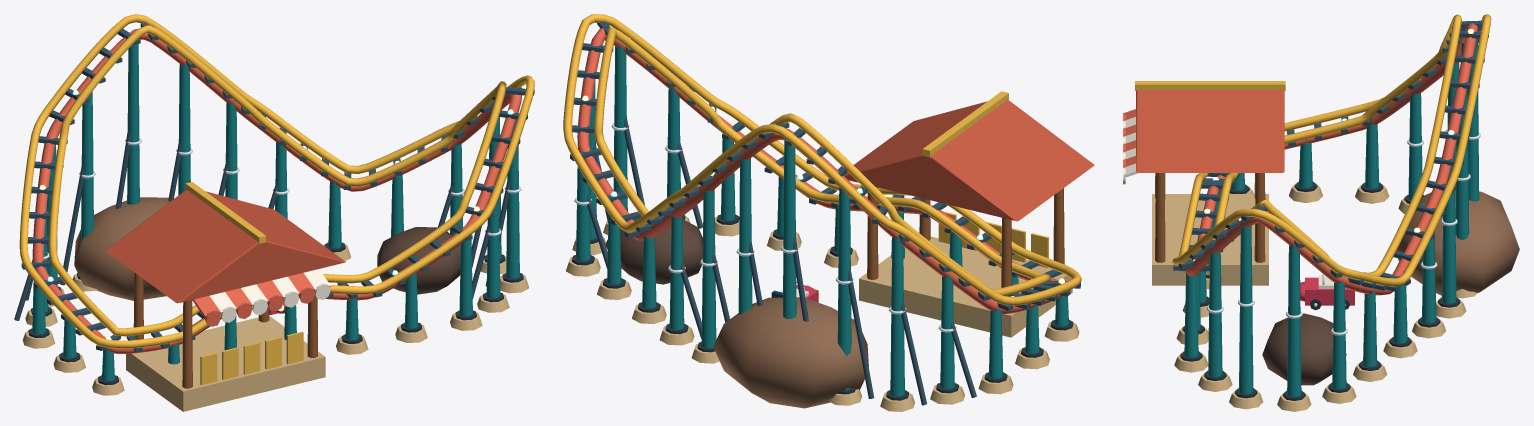
The model's file is roller-coaster.glb.
The picture shows the model from 3 angles, left to right: view 1: azimuth 30°, elevation 25°; view 2: azimuth 150°, elevation 25°; view 3: azimuth 270°, elevation 25°; orthographic projection. The views are drawn at different scales.
Visible parts, largest first — view 1: Mesh_mango, Mesh_teal, Mesh_terracotta, Mesh_sandStone, Mesh_coral, Mesh_steel, Mesh_cliffRock, Mesh_gold, Mesh_cliffDark, Mesh_wood, Mesh_warmWhite, Mesh_iron (+1 smaller); view 2: Mesh_teal, Mesh_mango, Mesh_terracotta, Mesh_sandStone, Mesh_cliffRock, Mesh_steel, Mesh_coral, Mesh_cliffDark, Mesh_wood, Mesh_gold, Mesh_iron, Mesh_chrome; view 3: Mesh_teal, Mesh_terracotta, Mesh_mango, Mesh_sandStone, Mesh_coral, Mesh_cliffRock, Mesh_steel, Mesh_cliffDark, Mesh_iron, Mesh_wood, Mesh_gold, Mesh_crimson (+2 smaller).
Boxes of the visible parts, left/top/right/bottom form: Mesh_mango: left=19, top=14, right=534, bottom=348; Mesh_teal: left=32, top=44, right=519, bottom=381; Mesh_terracotta: left=105, top=189, right=345, bottom=303; Mesh_sandStone: left=22, top=244, right=529, bottom=411; Mesh_coral: left=32, top=29, right=521, bottom=353; Mesh_steel: left=14, top=23, right=534, bottom=352; Mesh_cliffRock: left=74, top=197, right=169, bottom=300; Mesh_gold: left=185, top=182, right=303, bottom=385; Mesh_cliffDark: left=377, top=227, right=460, bottom=294; Mesh_wood: left=133, top=272, right=317, bottom=388; Mesh_warmWhite: left=209, top=269, right=330, bottom=322; Mesh_iron: left=28, top=242, right=523, bottom=385; Mesh_teal: left=576, top=43, right=1068, bottom=396; Mesh_mango: left=563, top=14, right=1081, bottom=305; Mesh_terracotta: left=844, top=99, right=1094, bottom=221; Mesh_sandStone: left=566, top=216, right=1079, bottom=411; Mesh_cliffRock: left=713, top=297, right=868, bottom=408; Mesh_steel: left=570, top=22, right=1080, bottom=405; Mesh_coral: left=577, top=28, right=1062, bottom=314; Mesh_cliffDark: left=605, top=215, right=702, bottom=284; Mesh_wood: left=867, top=187, right=1064, bottom=296; Mesh_gold: left=922, top=91, right=1048, bottom=267; Mesh_iron: left=572, top=214, right=1073, bottom=400; Mesh_chrome: left=574, top=123, right=956, bottom=332; Mesh_teal: left=1184, top=27, right=1479, bottom=396; Mesh_terracotta: left=1136, top=90, right=1284, bottom=172; Mesh_mango: left=1172, top=14, right=1491, bottom=286; Mesh_sandStone: left=1152, top=183, right=1477, bottom=411; Mesh_coral: left=1123, top=23, right=1477, bottom=295; Mesh_cliffRock: left=1397, top=186, right=1519, bottom=295; Mesh_steel: left=1173, top=20, right=1488, bottom=291; Mesh_cliffDark: left=1262, top=313, right=1346, bottom=385; Mesh_iron: left=1180, top=182, right=1460, bottom=400; Mesh_wood: left=1155, top=173, right=1265, bottom=262; Mesh_gold: left=1135, top=81, right=1285, bottom=90; Mesh_crimson: left=1300, top=277, right=1354, bottom=305.
Bounding box in the file's own units: 10.6 × 5.89 × 7.8.
